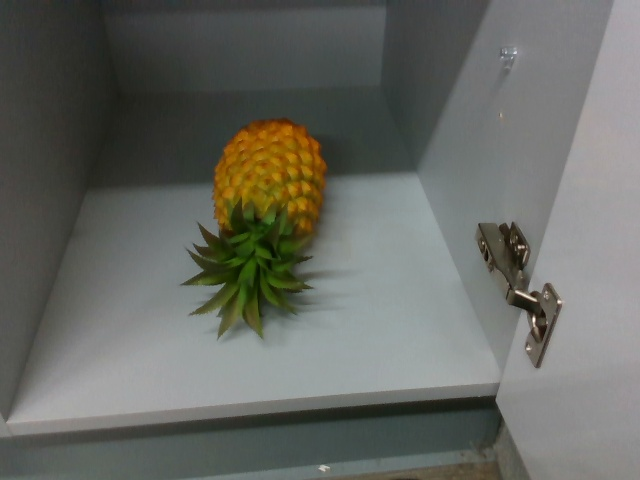pineapple: (179, 115, 333, 338)
